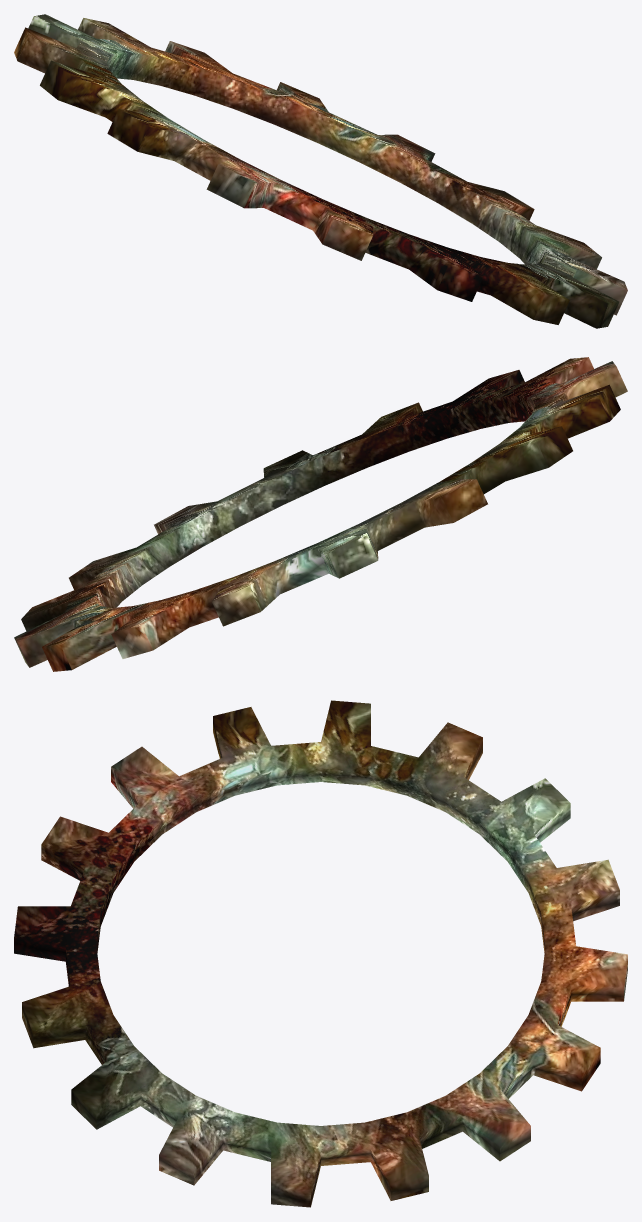
File: Gear6.FBX
3 views of the same model, one above another, from view 1: azimuth 30°, elevation 25°; view 2: azimuth 150°, elevation 25°; view 3: azimuth 270°, elevation 25° (orthographic). The views are drawn at different scales.
Parts seen in each view (by area): view 1: Gear_Sphere_0; view 2: Gear_Sphere_0; view 3: Gear_Sphere_0.
Boxes of the visible parts, box(x1,y1,x2,y2) form: Gear_Sphere_0: box(14, 14, 627, 328); Gear_Sphere_0: box(14, 357, 627, 671); Gear_Sphere_0: box(14, 700, 627, 1207).
Size of the model in its own units: 23.98 by 13.55 by 26.61.
1 material, 1 textured.
